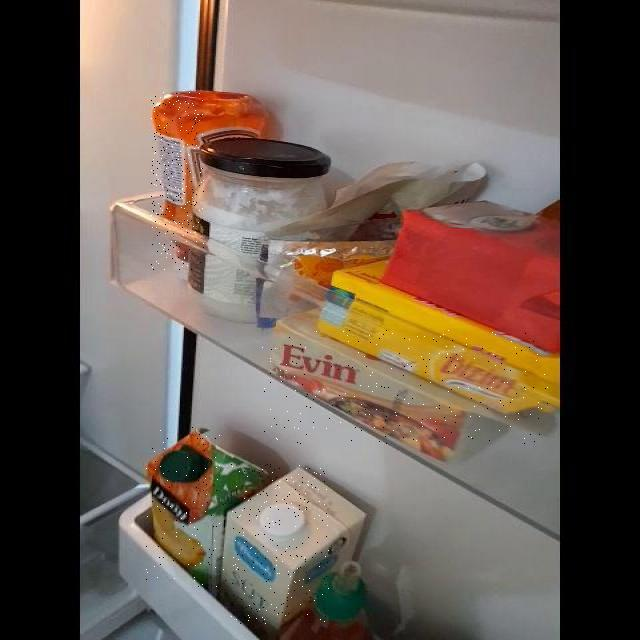butter: (261, 330, 548, 444)
juice: (146, 427, 226, 587)
milk: (231, 464, 329, 624)
sauce: (151, 92, 204, 271)
